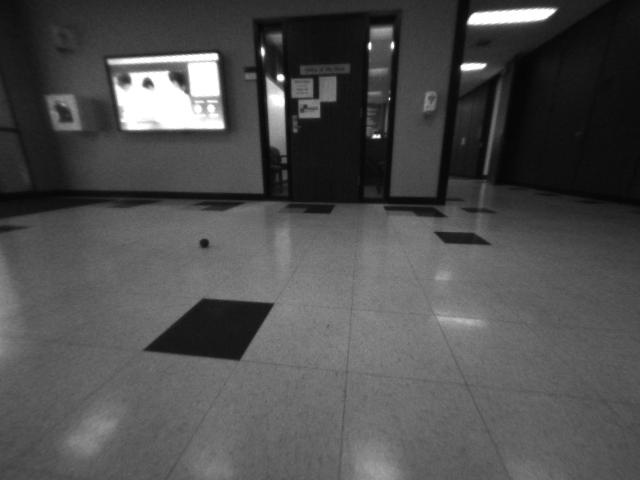dogtoy: (193, 230, 216, 252)
